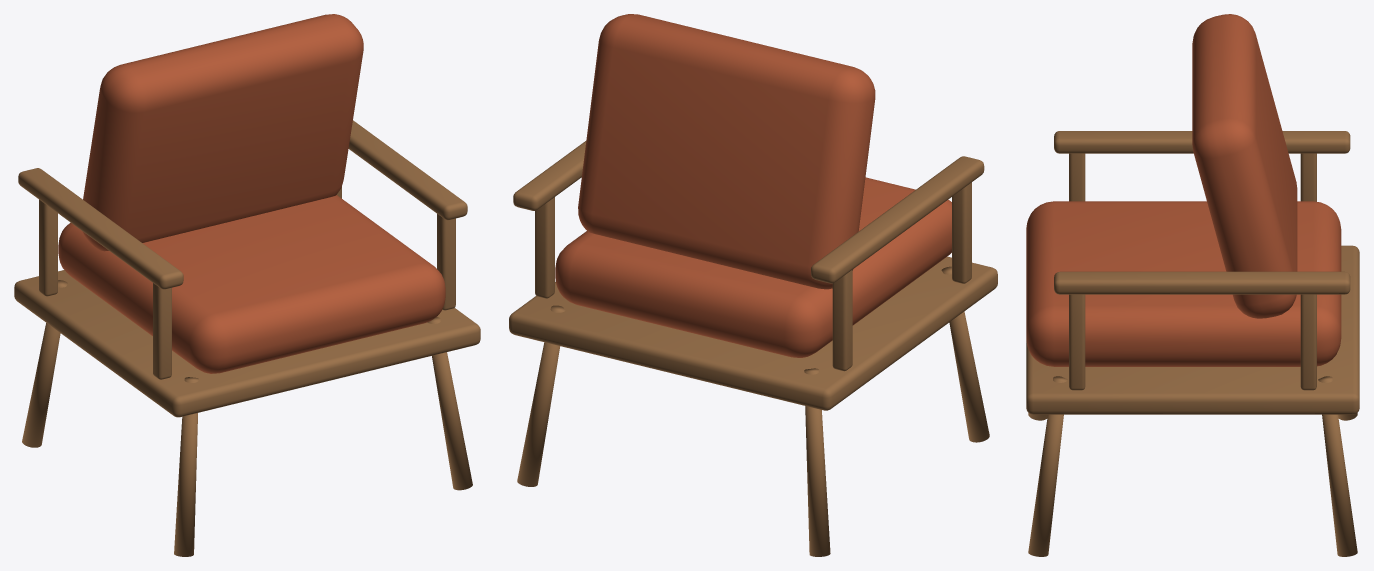
The model's file is sillon-ola.glb.
The picture shows the model from 3 angles, left to right: view 1: azimuth 30°, elevation 25°; view 2: azimuth 150°, elevation 25°; view 3: azimuth 270°, elevation 25°; orthographic projection. The views are drawn at different scales.
Visible parts, largest first — view 1: sillon_respaldo, sillon_asiento, sillon_bastidor, sillon_brazo_-1, sillon_brazo_1, sillon_pata_-1_-1, sillon_pata_1_-1, sillon_pata_-1_1, sillon_poste_-1_-1, sillon_poste_-1_1, sillon_poste_1_-1; view 2: sillon_respaldo, sillon_asiento, sillon_bastidor, sillon_brazo_-1, sillon_pata_-1_1, sillon_pata_1_1, sillon_pata_-1_-1, sillon_brazo_1, sillon_poste_-1_1, sillon_poste_1_1, sillon_poste_-1_-1; view 3: sillon_asiento, sillon_respaldo, sillon_bastidor, sillon_brazo_1, sillon_brazo_-1, sillon_pata_1_1, sillon_pata_1_-1, sillon_poste_1_1, sillon_poste_1_-1, sillon_poste_-1_1, sillon_poste_-1_-1.
Boxes of the visible parts, x1,y1,x2,y2 form: sillon_respaldo: (82, 14, 363, 251); sillon_asiento: (58, 195, 445, 373); sillon_bastidor: (14, 270, 480, 417); sillon_brazo_-1: (18, 168, 183, 289); sillon_brazo_1: (348, 120, 467, 220); sillon_pata_-1_-1: (174, 377, 198, 556); sillon_pata_1_-1: (427, 317, 472, 490); sillon_pata_-1_1: (22, 280, 67, 447); sillon_poste_-1_-1: (153, 283, 171, 379); sillon_poste_-1_1: (39, 199, 57, 296); sillon_poste_1_-1: (437, 214, 455, 310); sillon_respaldo: (578, 14, 875, 289); sillon_asiento: (555, 177, 951, 357); sillon_bastidor: (509, 256, 997, 410); sillon_brazo_-1: (811, 156, 984, 283); sillon_pata_-1_1: (804, 368, 830, 556); sillon_pata_1_1: (517, 305, 565, 486); sillon_pata_-1_-1: (941, 266, 989, 442); sillon_brazo_1: (513, 141, 586, 210); sillon_poste_-1_1: (832, 270, 852, 371); sillon_poste_1_1: (535, 197, 554, 298); sillon_poste_-1_-1: (952, 182, 971, 283); sillon_asiento: (1026, 201, 1341, 366); sillon_respaldo: (1192, 14, 1297, 318); sillon_bastidor: (1026, 245, 1359, 414); sillon_brazo_1: (1054, 271, 1350, 294); sillon_brazo_-1: (1054, 131, 1350, 153); sillon_pata_1_1: (1318, 376, 1357, 556); sillon_pata_1_-1: (1028, 376, 1067, 556); sillon_poste_1_1: (1300, 294, 1316, 390); sillon_poste_1_-1: (1069, 294, 1085, 390); sillon_poste_-1_1: (1300, 153, 1316, 201); sillon_poste_-1_-1: (1069, 153, 1085, 201).
Size of the model in its own units: 0.78 by 0.9973 by 0.72.
